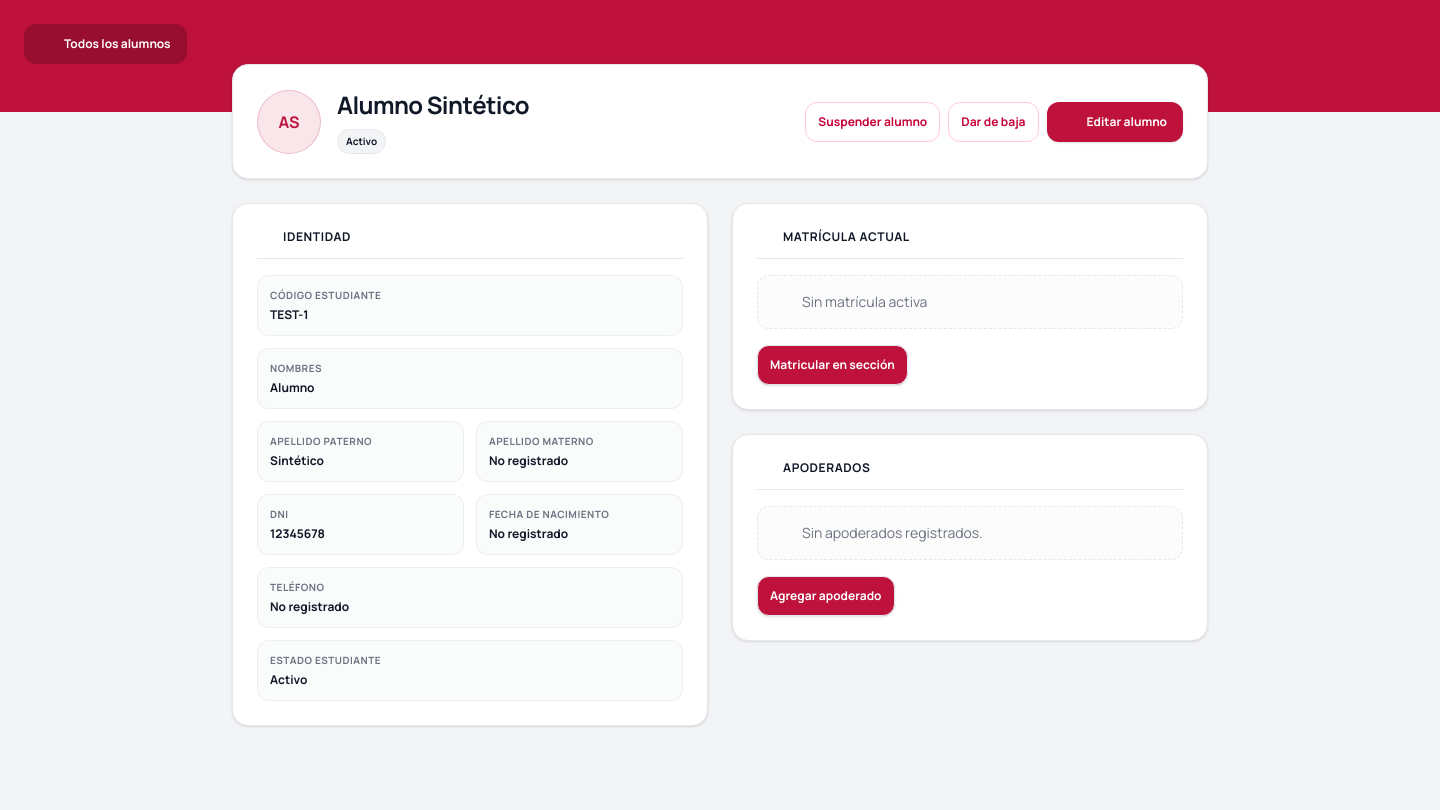
Test: a rejected enrollment keeps the dialog for a manual retry with the generic message
This screenshot has width=1440, height=810.
Click the button "Matricular en sección" at {"x": 832, "y": 365}, box [757,345,908,385]
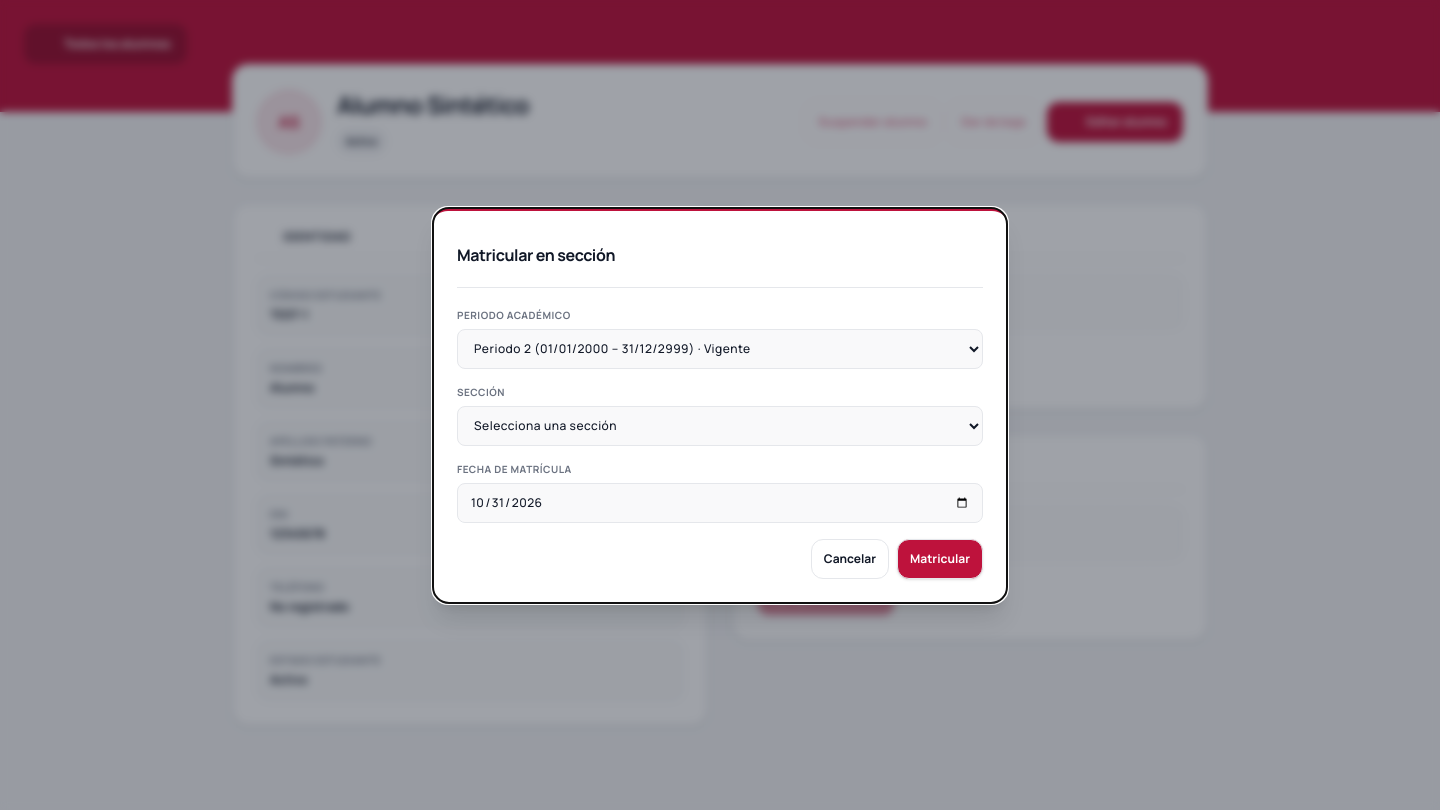
Select "Primaria · 1° · Sección A5 · 3 vacantes" in the dropdown labelled "Sección" at {"x": 720, "y": 426}, box [457,406,983,446]
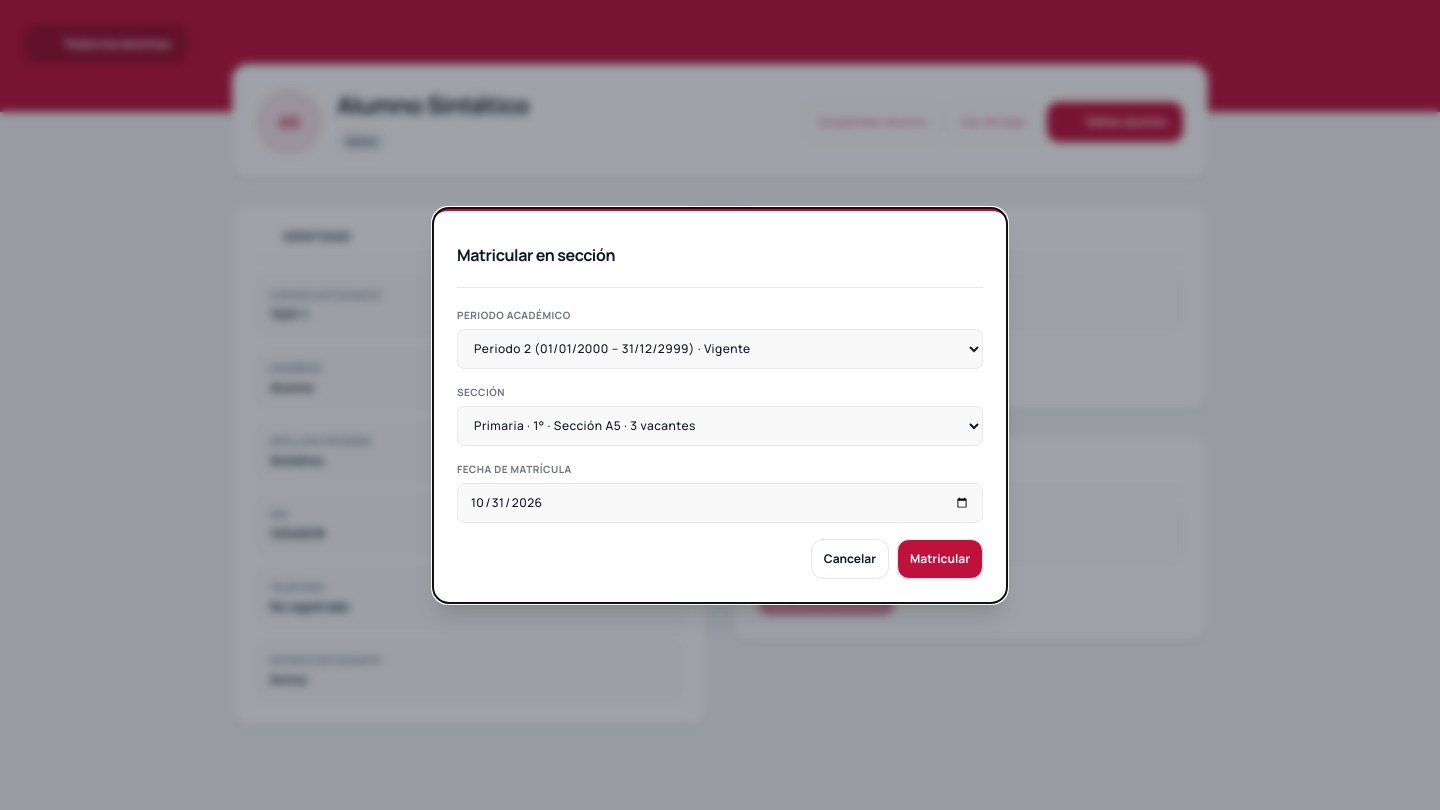
Submit the form, box [457,308,983,578]
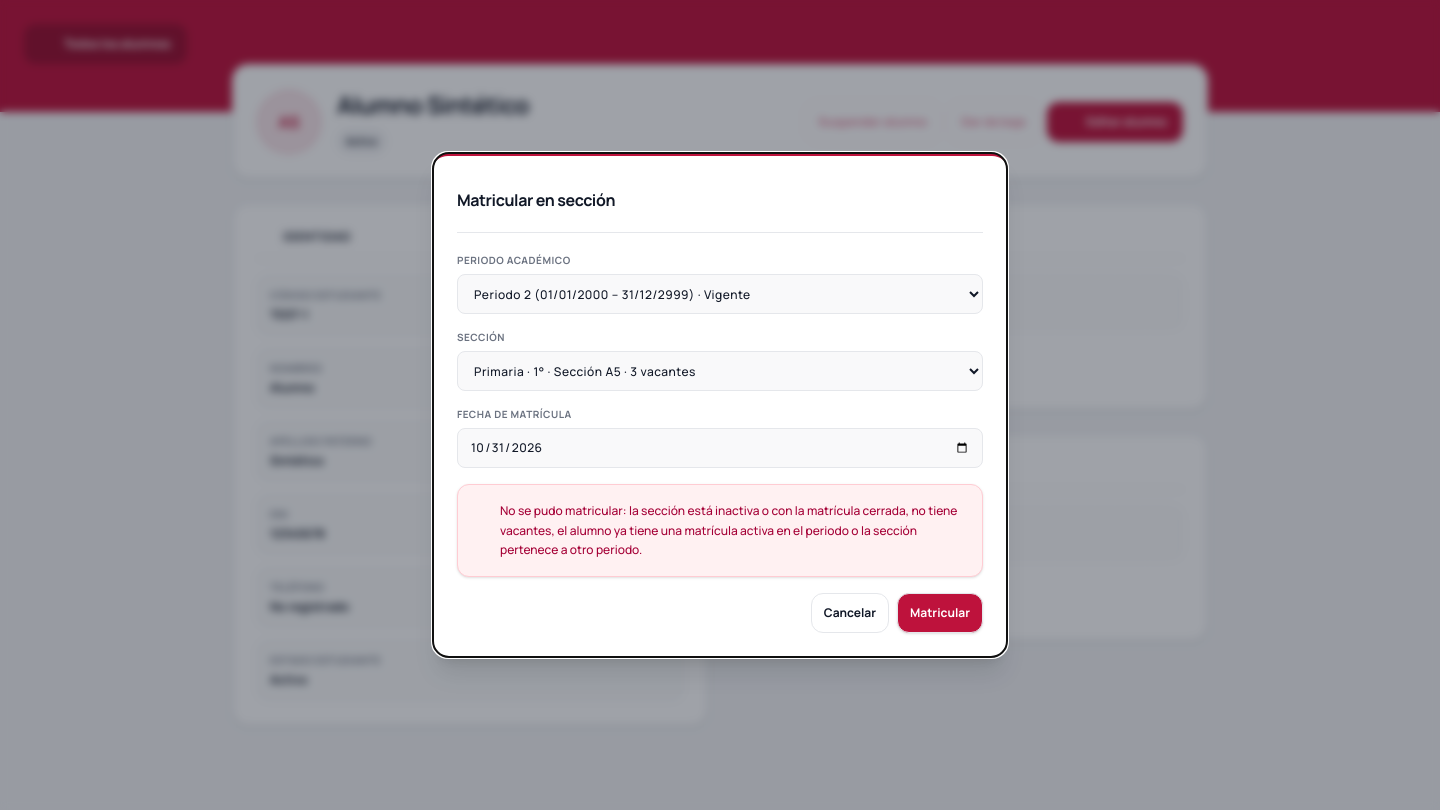
Expected: the text "No se pudo matricular: la sección está inactiva" is shown, [500,502,960,558]
